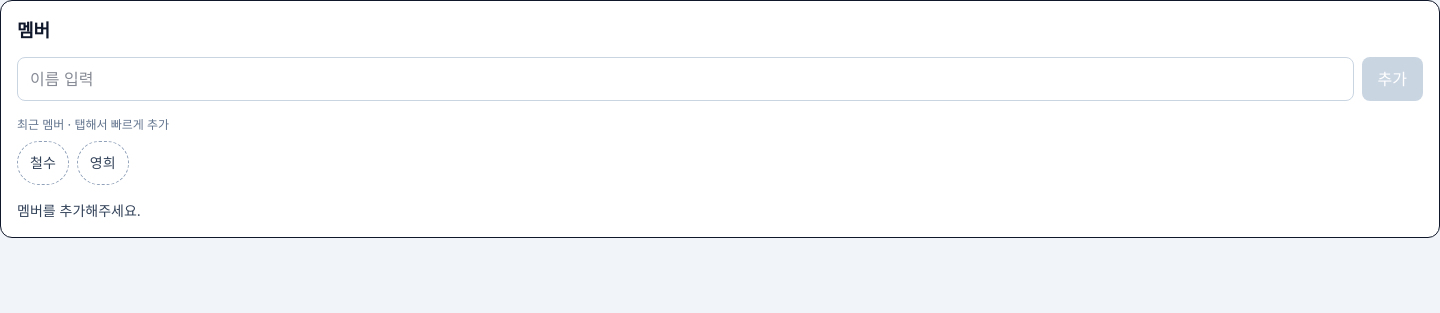
Scenario: MemberEditor › 최근 멤버 이름 칩을 탭하면 즉시 추가되고, 이미 추가된 이름은 칩이 비활성화된다
// 클릭 시점에는 "철수" 참여자 칩이 아직 없어 스코프 없이도 유일하다.
What coordinates should you click on to do the following:
click the button "철수"
I would click on:
 (43, 163)
Its box is [17,141,69,185].
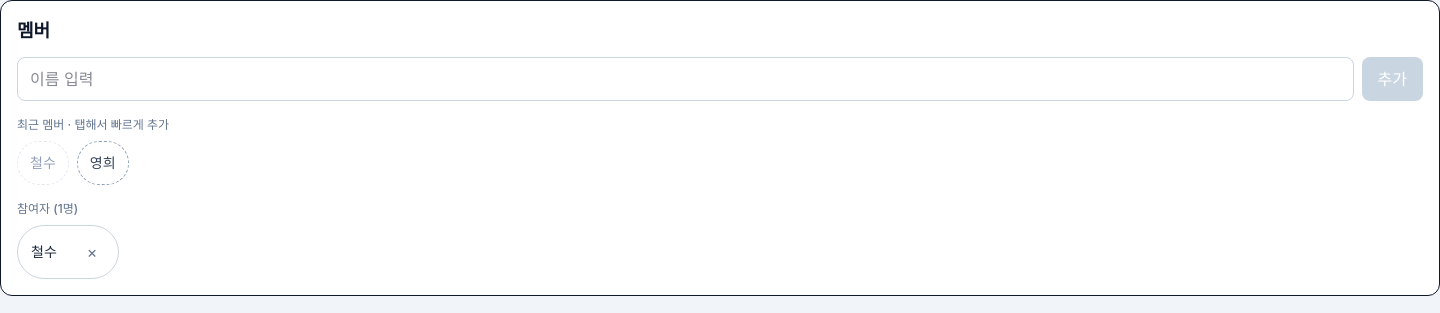
Expected: the button "영희" is enabled, [77,141,129,185]
Result: the button "철수" below "최근 멤버 · 탭해서 빠르게 추가" is disabled at [17,141,69,185]
